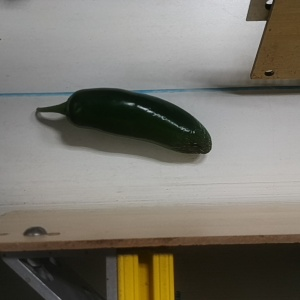Cut Point: (56, 89, 89, 129)
